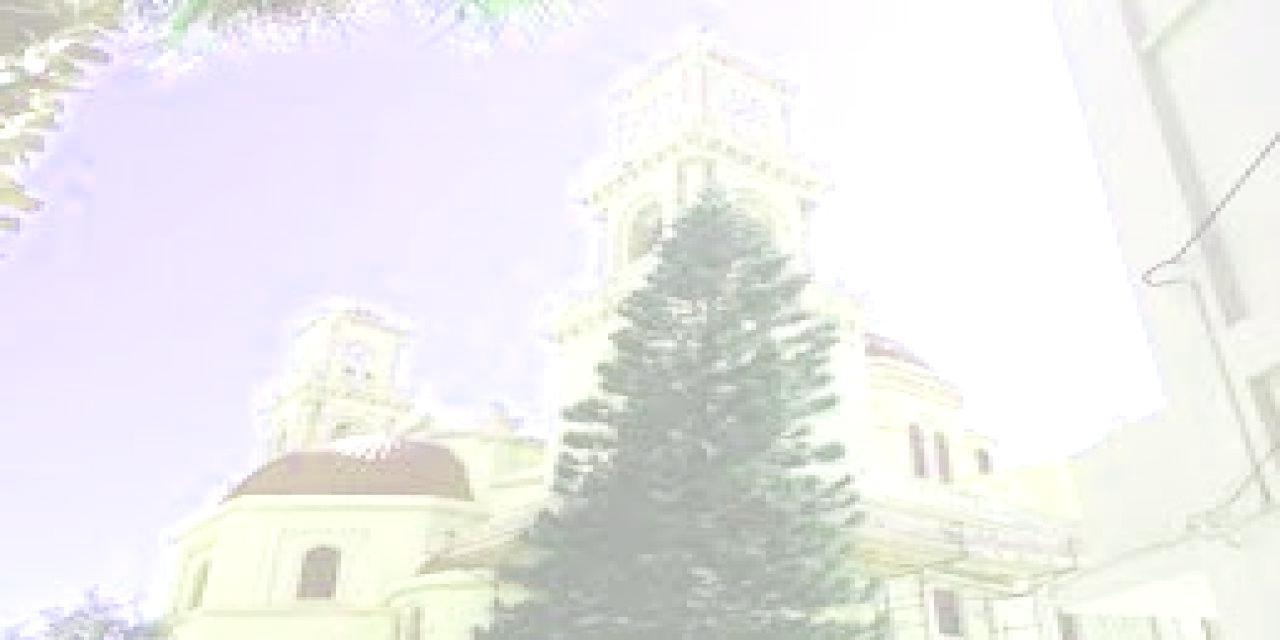Agios Minas: (147, 26, 1011, 640)
